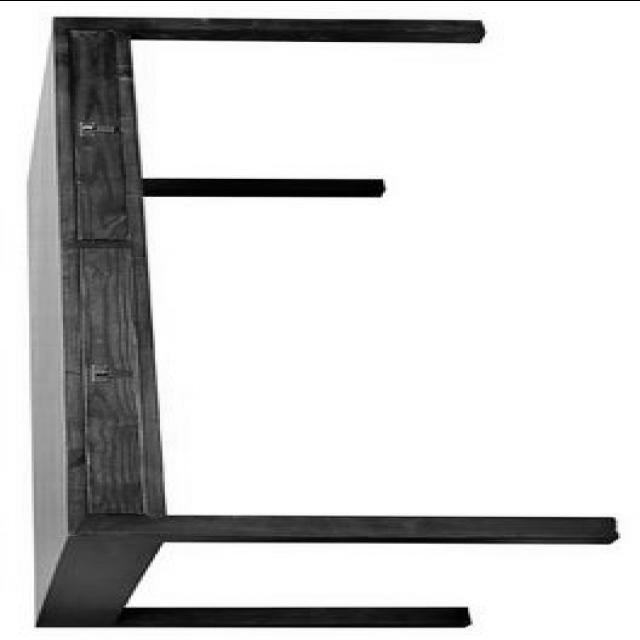table: (29, 14, 620, 626)
